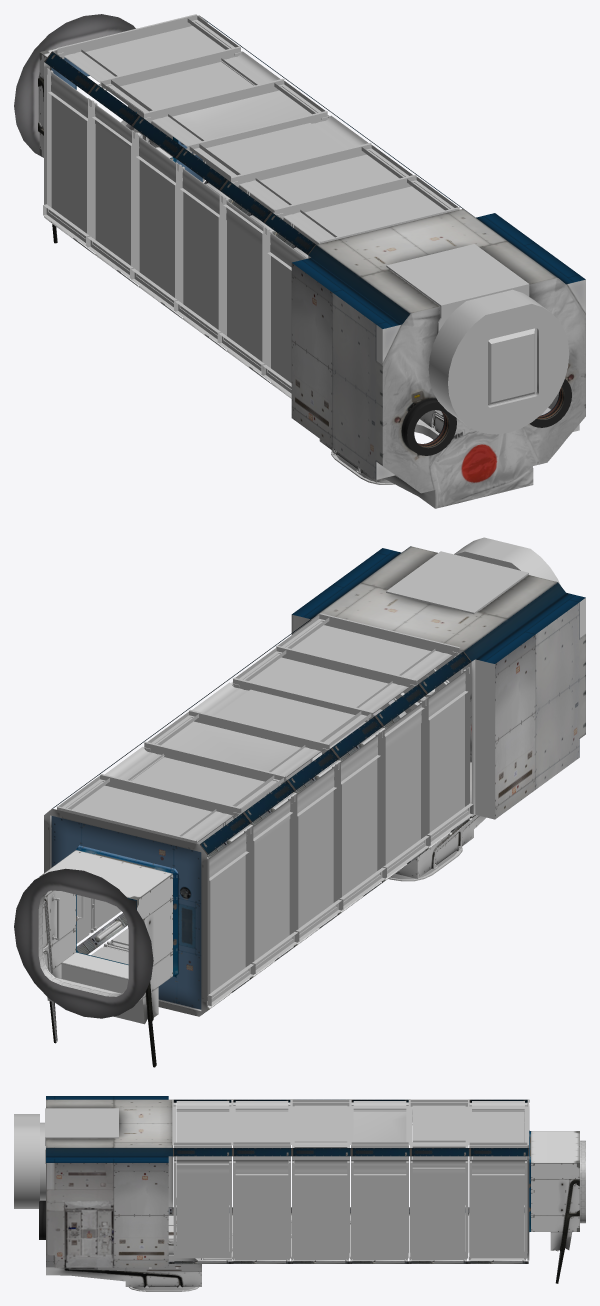
File: jpm.dae
The picture shows the model from 3 angles, top to bottom: view 1: azimuth 30°, elevation 25°; view 2: azimuth 150°, elevation 25°; view 3: azimuth 270°, elevation 25°; orthographic projection. The views are drawn at different scales.
Parts seen in each view (by area): view 1: JPM_CollapsedForUnity_Starboard; view 2: JPM_CollapsedForUnity_Starboard; view 3: JPM_CollapsedForUnity_Starboard.
Boxes of the visible parts, x1=… form: JPM_CollapsedForUnity_Starboard: x1=14, y1=14, x2=585, y2=508; JPM_CollapsedForUnity_Starboard: x1=14, y1=537, x2=585, y2=1067; JPM_CollapsedForUnity_Starboard: x1=14, y1=1096, x2=585, y2=1291.
Bounding box in the file's own units: 2.65 × 9.58 × 2.85.
